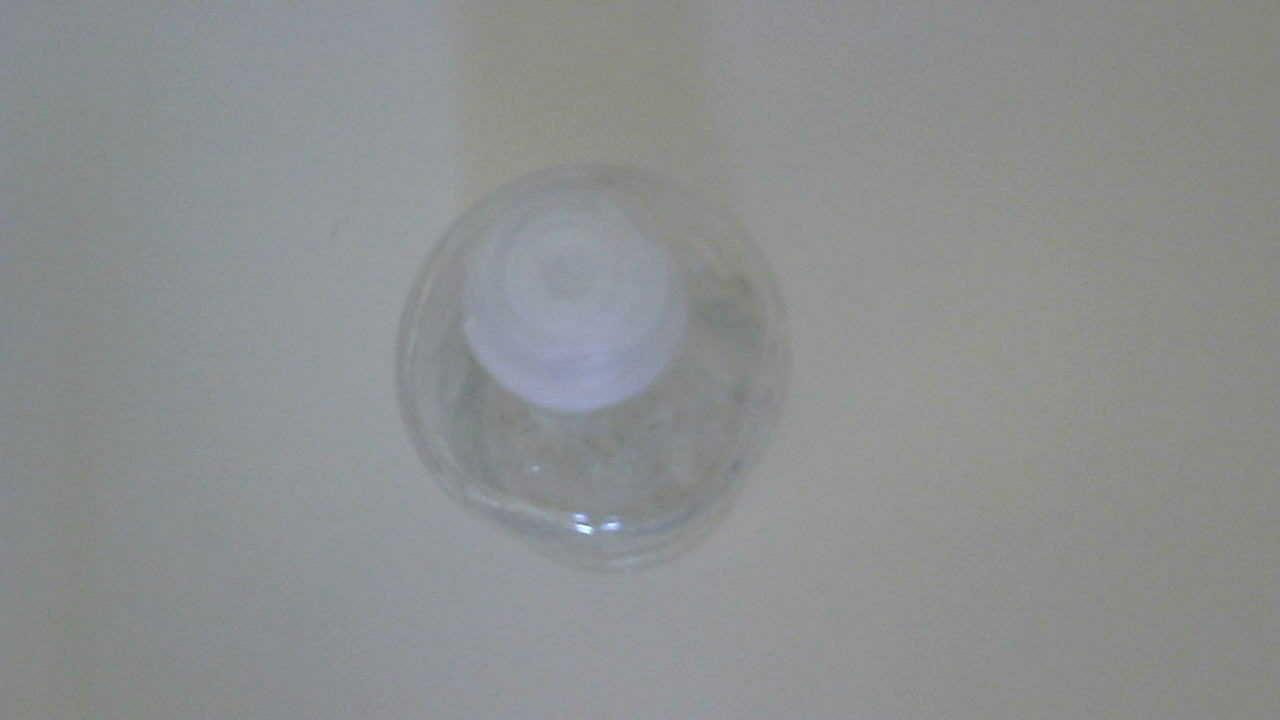Plastic Bottle: (392, 167, 806, 589)
